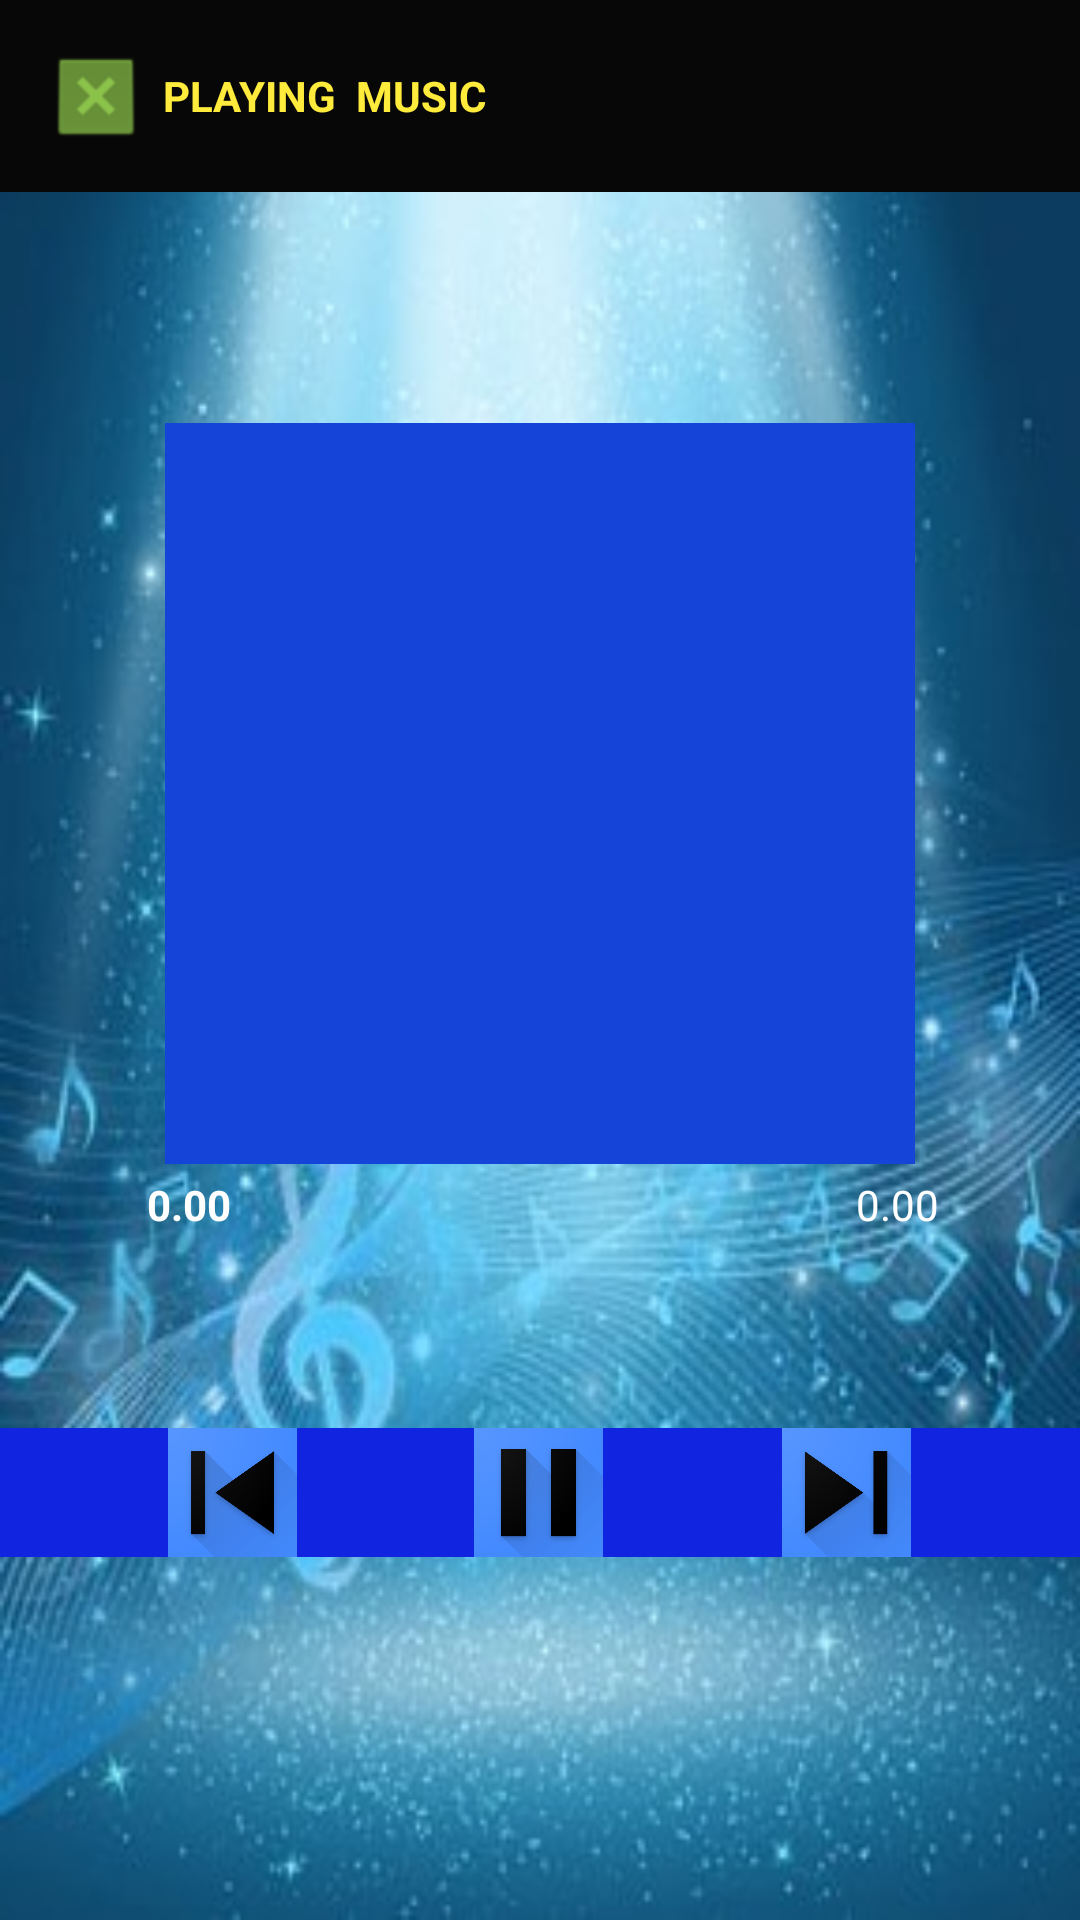

Named icons in this screenshot (1080w x 1920h) and their centers, [x,y]:
pause: [538,1492]
